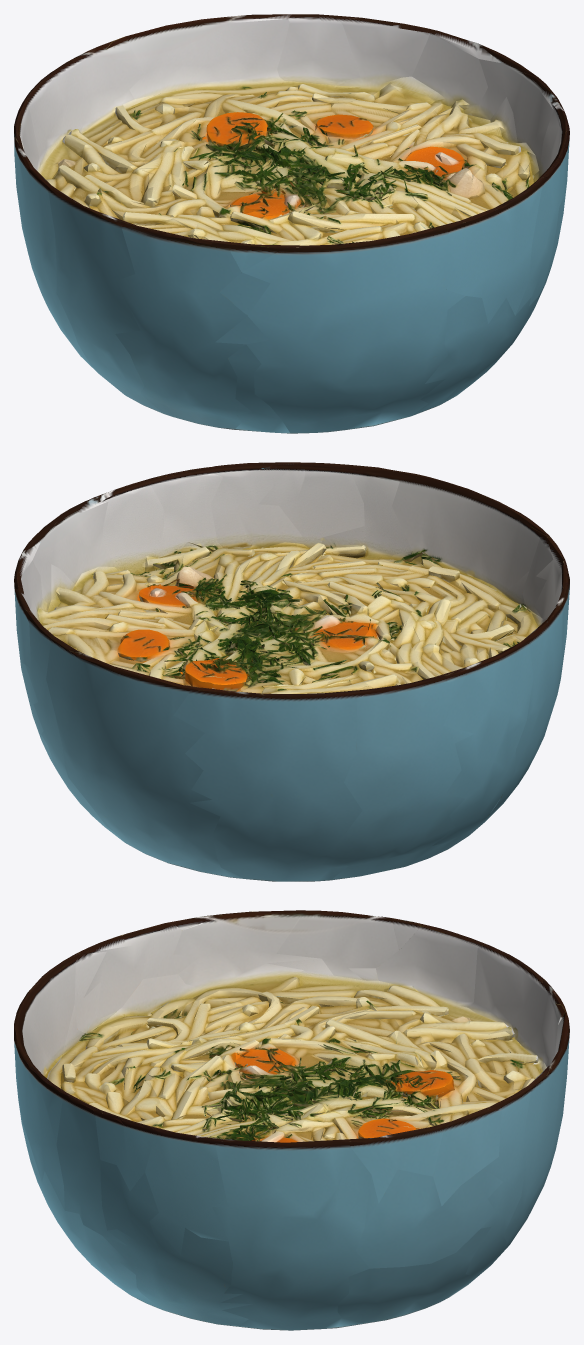
The model's file is krem-z-dyni.glb.
3 views of the same model, one above another, from view 1: azimuth 30°, elevation 25°; view 2: azimuth 150°, elevation 25°; view 3: azimuth 270°, elevation 25° (orthographic).
Parts seen in each view (by area): view 1: output_unwrapped; view 2: output_unwrapped; view 3: output_unwrapped.
Part boxes in pixels (bbox=[...]): output_unwrapped: bbox=[14, 14, 569, 433]; output_unwrapped: bbox=[14, 462, 569, 881]; output_unwrapped: bbox=[14, 910, 569, 1330].
Bounding box in the file's own units: 1.9 × 0.8357 × 1.9.
Materials: 1 (1 with a texture image).
